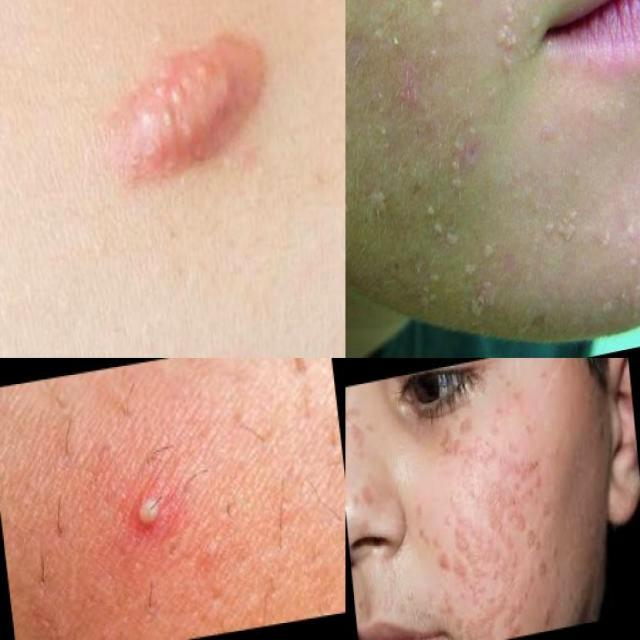Pimples: (97, 21, 277, 190), (118, 478, 182, 550), (492, 5, 524, 82), (400, 52, 437, 116), (458, 125, 496, 182), (558, 217, 578, 252)
